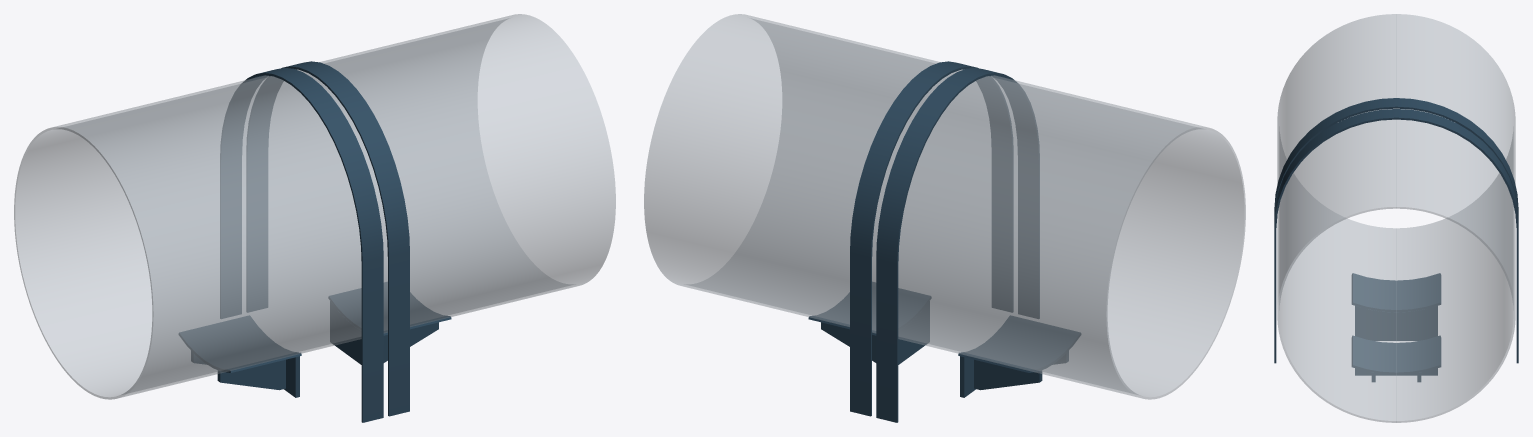
Rendered from TS-669.00.00-26-opora-dn920-ris2.glb.
3 renders of one model, left to right at view 1: azimuth 30°, elevation 25°; view 2: azimuth 150°, elevation 25°; view 3: azimuth 270°, elevation 25°, orthographic. The views are drawn at different scales.
Parts seen in each view (by area): view 1: truba, homut_10, homut_9, upor_8, upor_4, upor_6, upor_1; view 2: truba, homut_10, homut_9, upor_8, upor_4, upor_7, upor_1; view 3: truba, homut_9, upor_4, upor_8, homut_10, upor_5, upor_1.
Part boxes in pixels (box(x1,y1,x2,y2)): truba: box(14, 14, 615, 399); homut_10: box(220, 68, 383, 422); homut_9: box(246, 61, 409, 416); upor_8: box(179, 315, 301, 372); upor_4: box(328, 282, 451, 335); upor_6: box(217, 359, 285, 390); upor_1: box(330, 301, 361, 364); truba: box(644, 14, 1245, 399); homut_10: box(876, 68, 1039, 422); homut_9: box(850, 61, 1013, 416); upor_8: box(958, 315, 1080, 372); upor_4: box(808, 282, 931, 335); upor_7: box(974, 359, 1042, 390); upor_1: box(898, 301, 929, 364); truba: box(1277, 14, 1515, 422); homut_9: box(1274, 109, 1518, 363); upor_4: box(1351, 335, 1441, 374); upor_8: box(1351, 273, 1441, 312); homut_10: box(1274, 98, 1518, 217); upor_5: box(1355, 306, 1437, 340); upor_1: box(1355, 368, 1437, 375).
Size of the model in its own units: 1760 by 1063 by 942.
